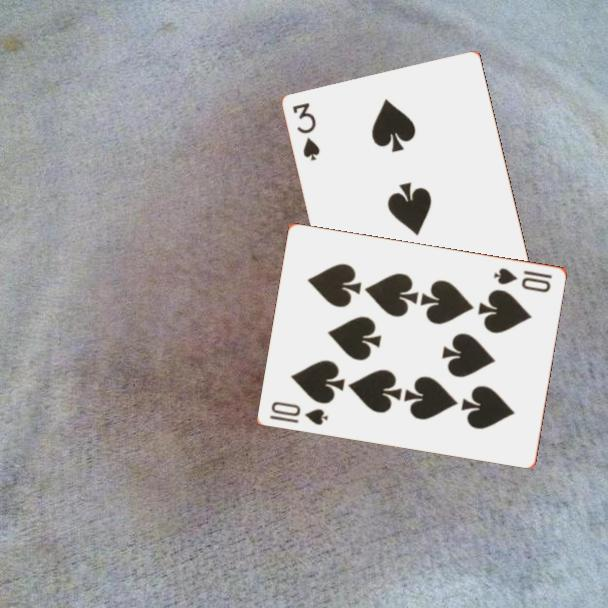s03: (289, 99, 323, 164)
s10: (491, 264, 555, 295), (267, 398, 331, 428)
